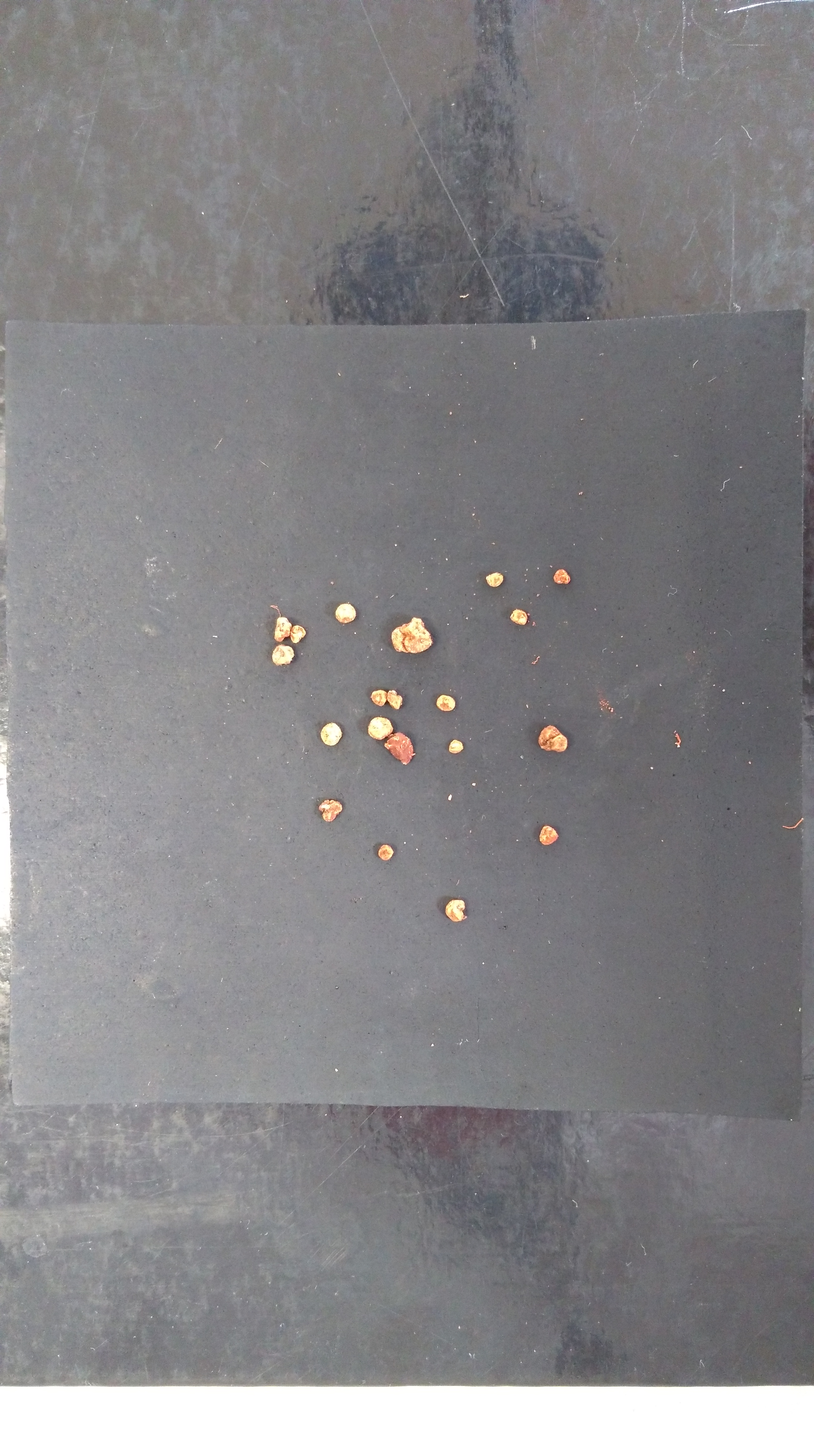nodule: (400, 616, 434, 654), (385, 731, 415, 765), (538, 724, 568, 753), (318, 798, 343, 822), (368, 717, 394, 740), (391, 626, 411, 654), (321, 722, 342, 746), (273, 616, 292, 642), (334, 603, 357, 624), (272, 644, 295, 665), (445, 899, 466, 922), (538, 824, 559, 845), (436, 694, 456, 712), (289, 624, 306, 644), (485, 571, 504, 588), (387, 689, 403, 709), (553, 568, 571, 585), (371, 689, 387, 706), (377, 844, 394, 860), (510, 609, 527, 625), (448, 739, 464, 754)
